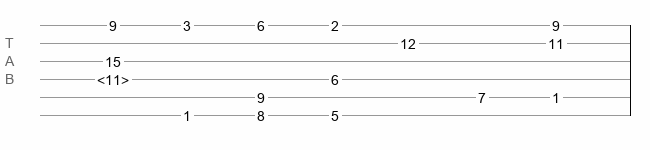1: (183, 108, 191, 118), (552, 90, 560, 100)
11: (548, 36, 564, 46)
12: (400, 36, 416, 46)
15: (105, 54, 121, 64)
2: (331, 18, 339, 28)
3: (183, 18, 191, 28)
5: (331, 108, 339, 118)
6: (257, 18, 265, 28), (331, 72, 339, 82)
7: (478, 90, 486, 100)
8: (257, 108, 265, 118)
9: (109, 18, 117, 28), (257, 90, 265, 100), (552, 18, 560, 28)
harmonic: (97, 72, 129, 82)
